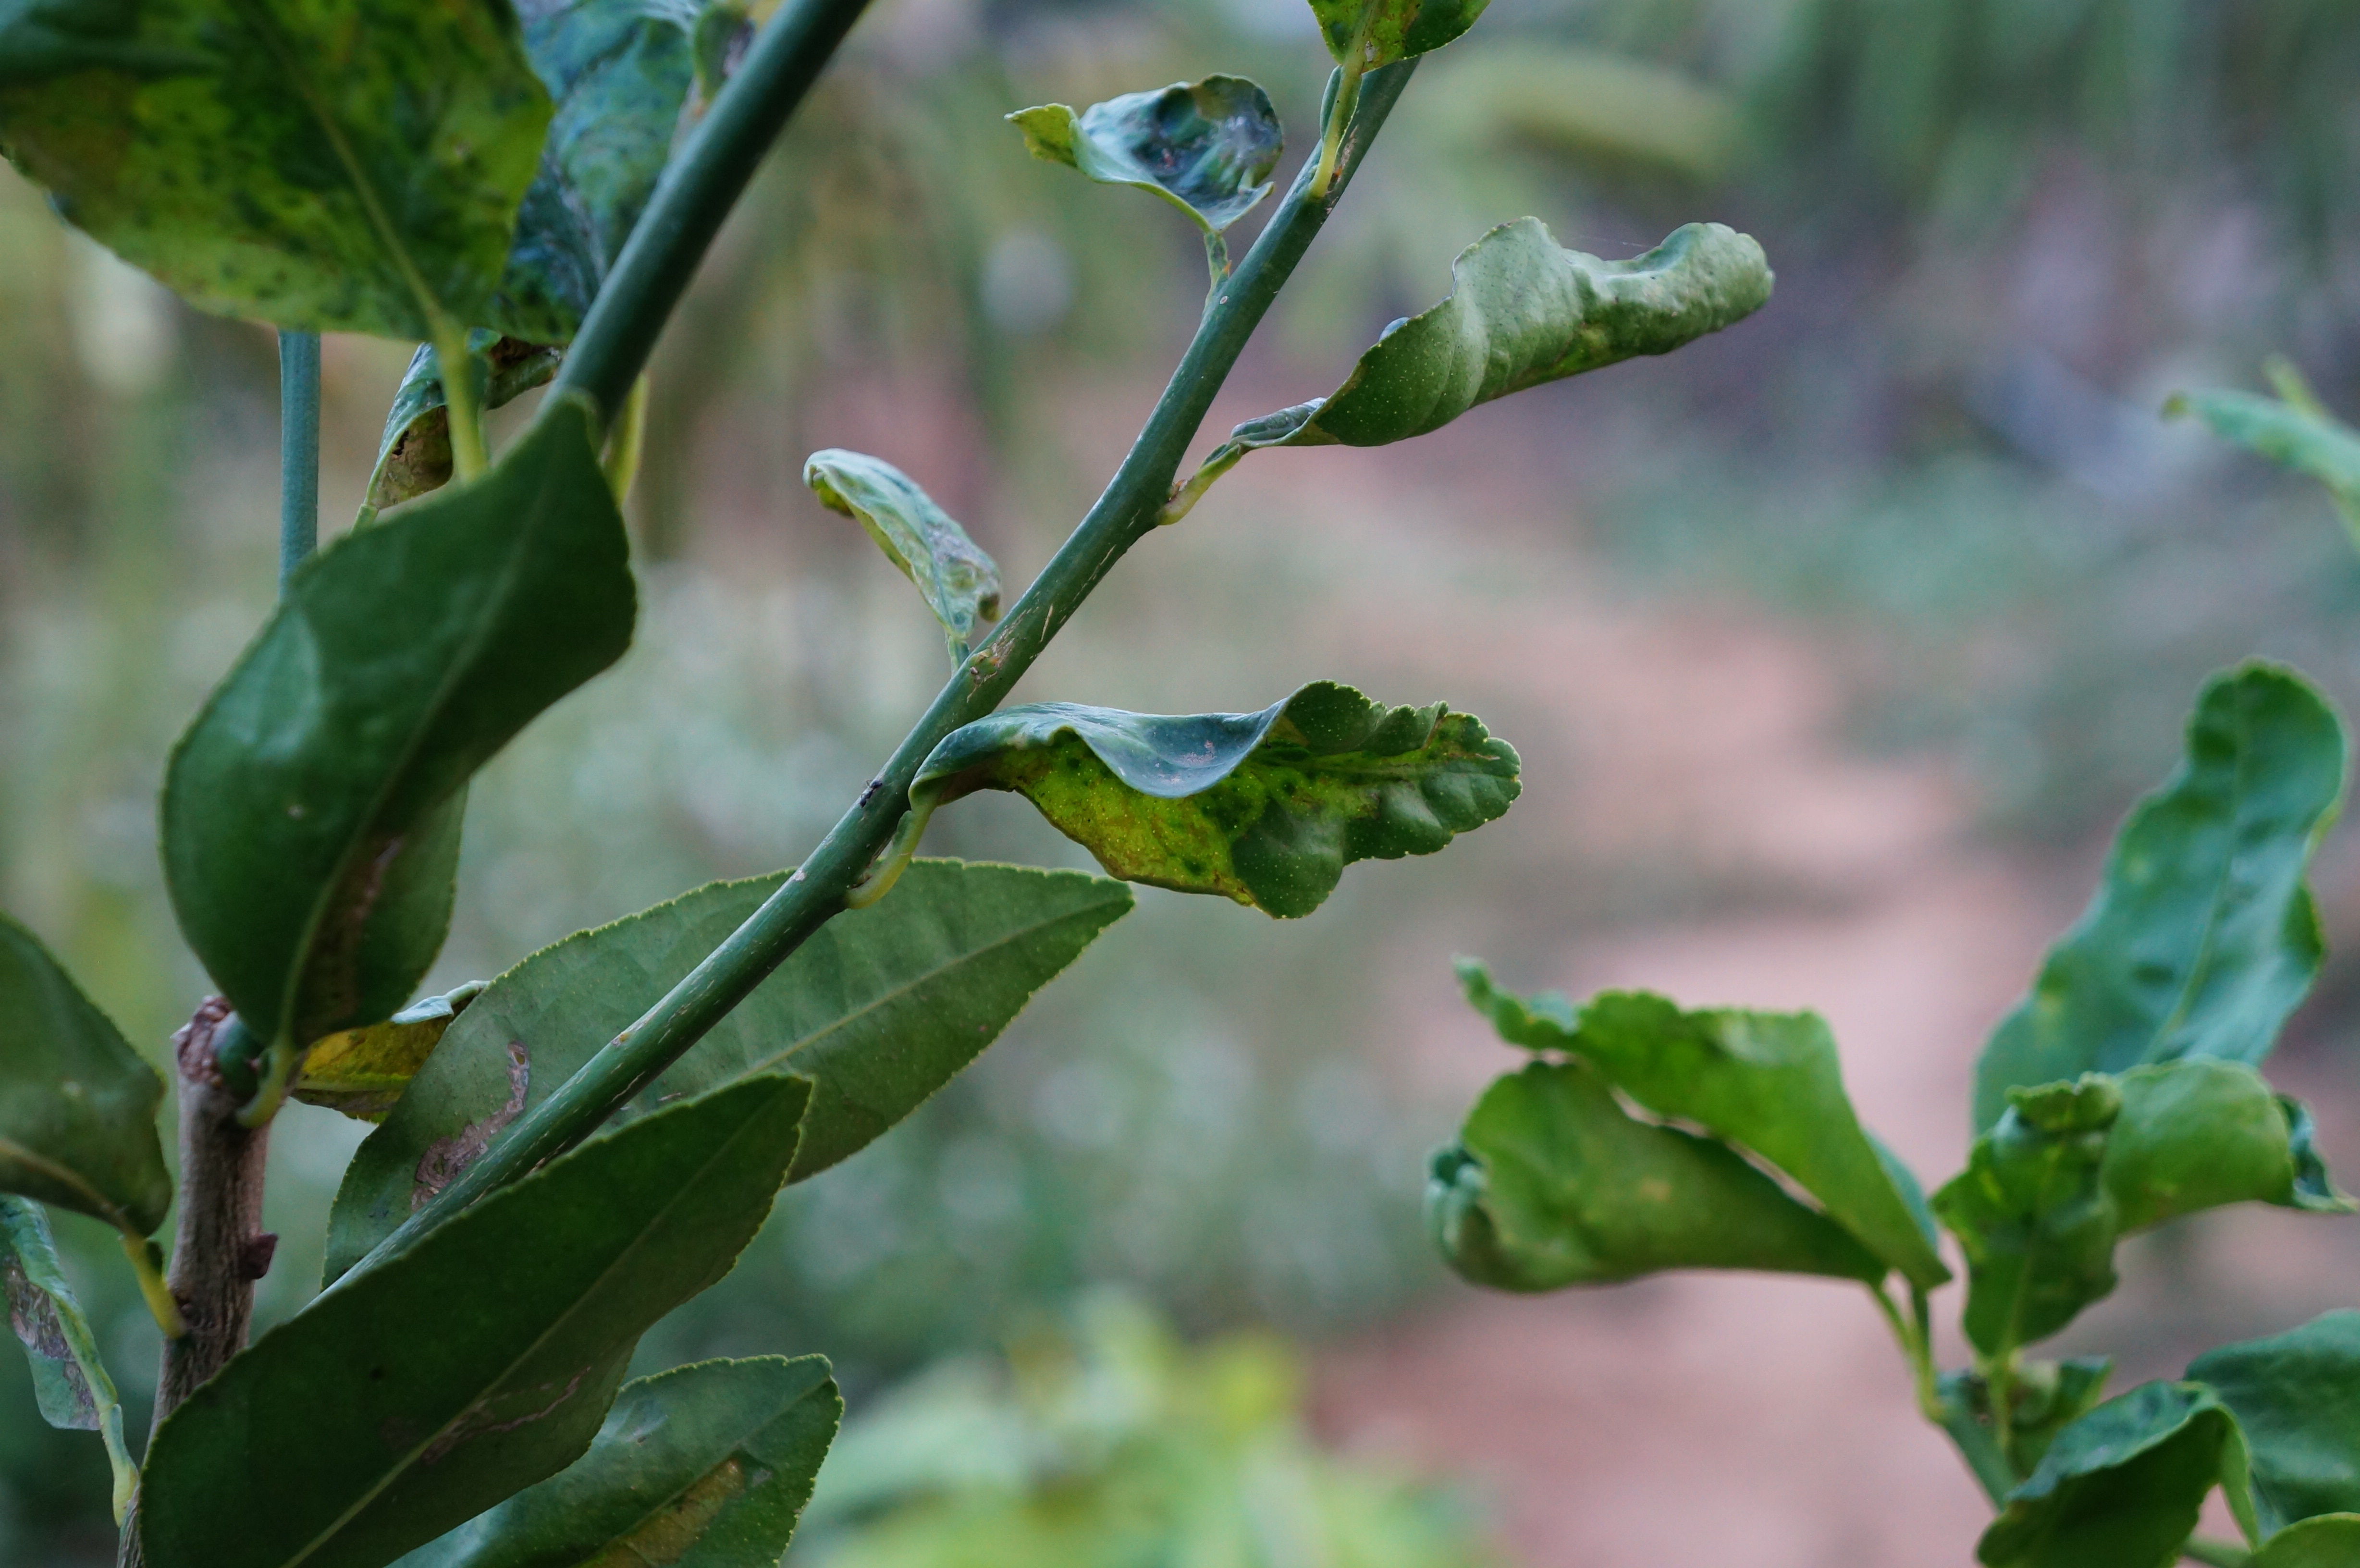curly: (1240, 198, 1812, 495)
damage: (890, 672, 1540, 938), (402, 1031, 572, 1220)
